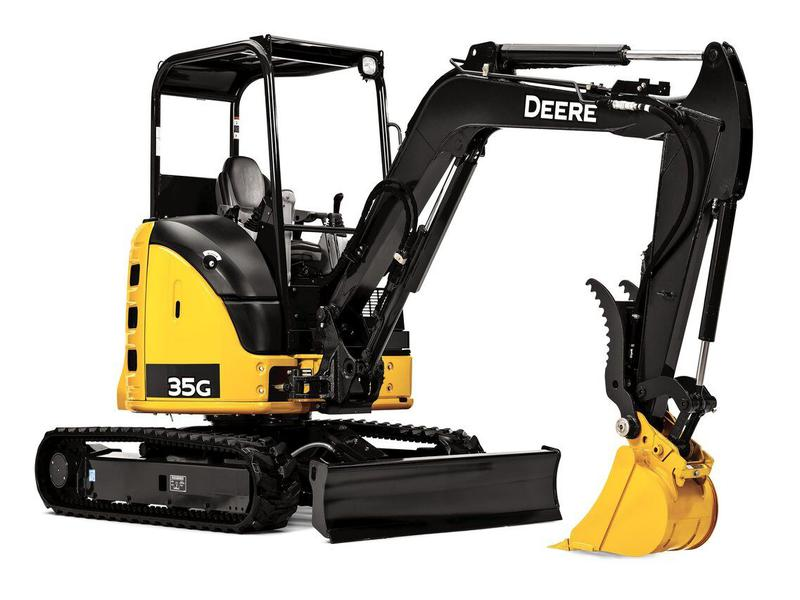shovel: (29, 27, 763, 567)
